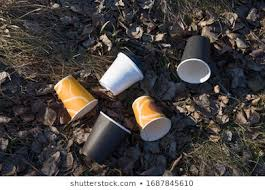paper_cup: (80, 111, 134, 165), (98, 49, 148, 94), (53, 74, 97, 121), (176, 34, 213, 87), (132, 95, 172, 143)
